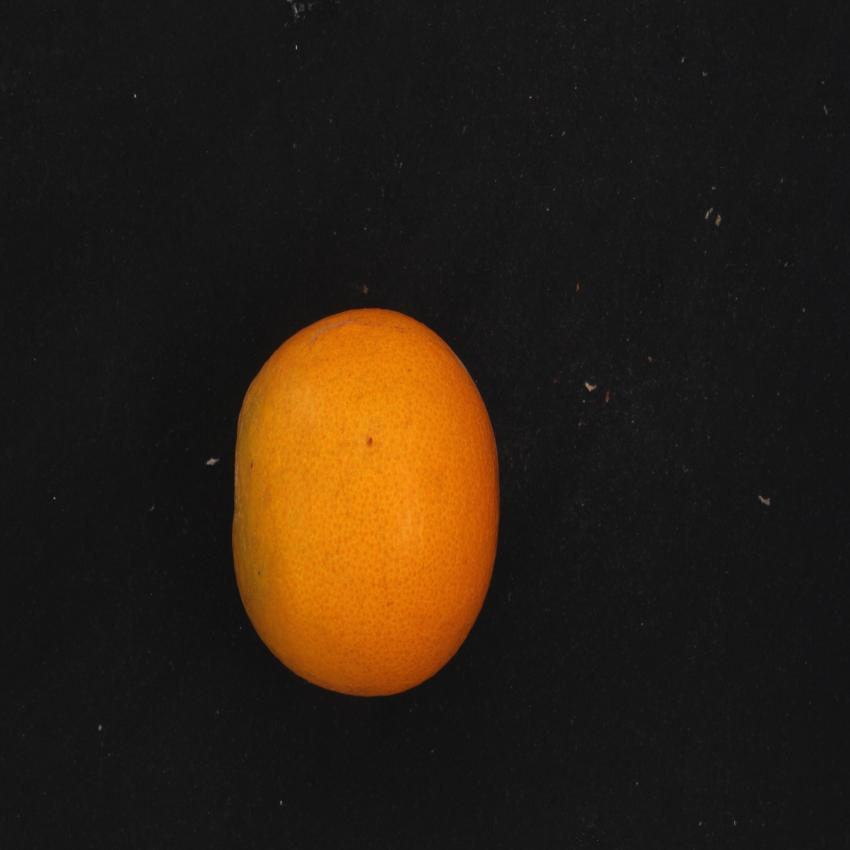Buen estado: (216, 290, 516, 712)
